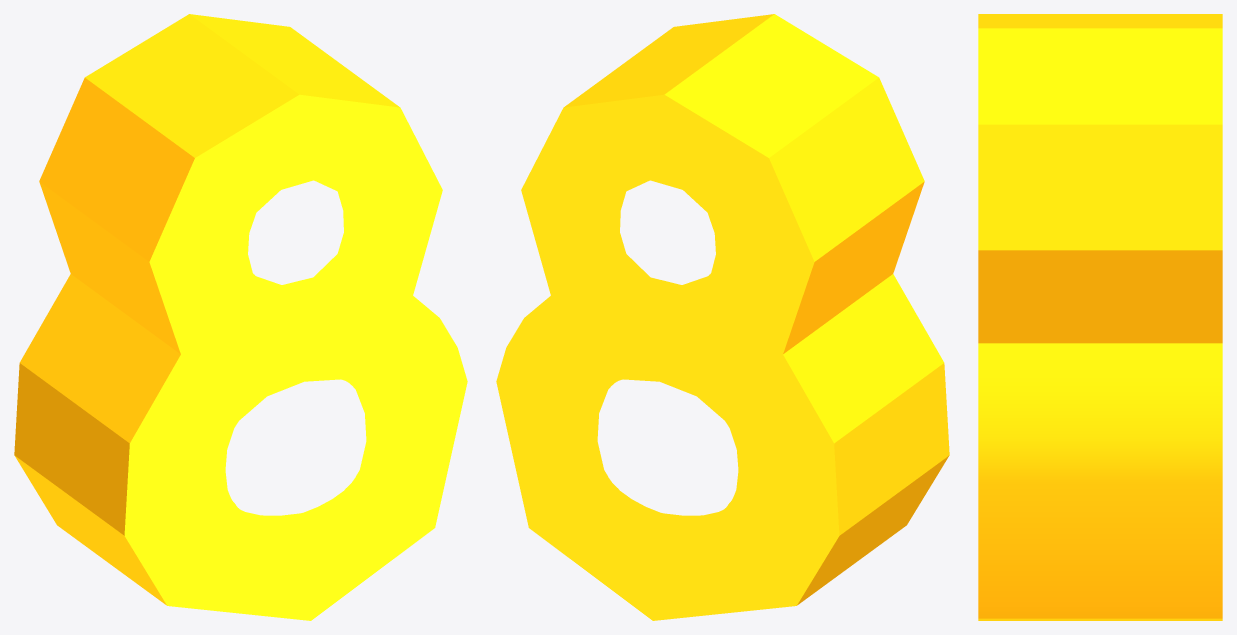
3 views of the same model, side by side, from view 1: azimuth 30°, elevation 25°; view 2: azimuth 150°, elevation 25°; view 3: azimuth 270°, elevation 25° (orthographic). The views are drawn at different scales.
Visible parts, largest first — view 1: 8_Zyzol_Yellow; view 2: 8_Zyzol_Yellow; view 3: 8_Zyzol_Yellow.
Boxes of the visible parts, x1,y1,x2,y2 form: 8_Zyzol_Yellow: (14, 14, 467, 620); 8_Zyzol_Yellow: (496, 14, 949, 620); 8_Zyzol_Yellow: (978, 14, 1222, 620).
Size of what is drawn, in the model's own units: 0.0809 by 0.1192 by 0.045.
Materials: 2 (2 with a texture image).
